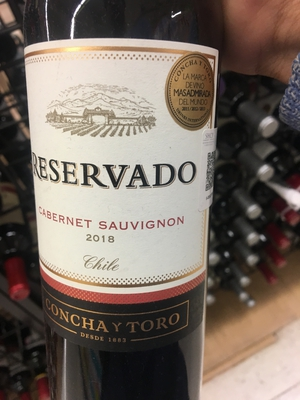reservado cabernet sauvignon: (22, 3, 218, 400)
